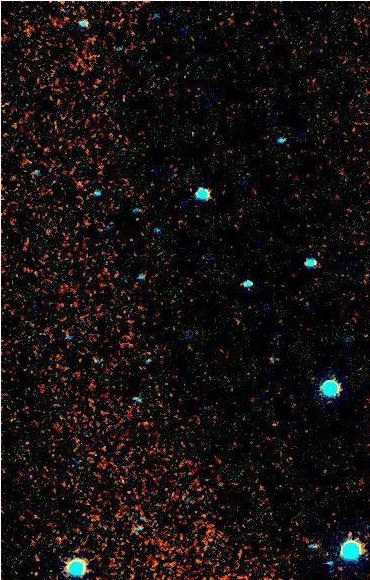star: (23, 550, 53, 580)
